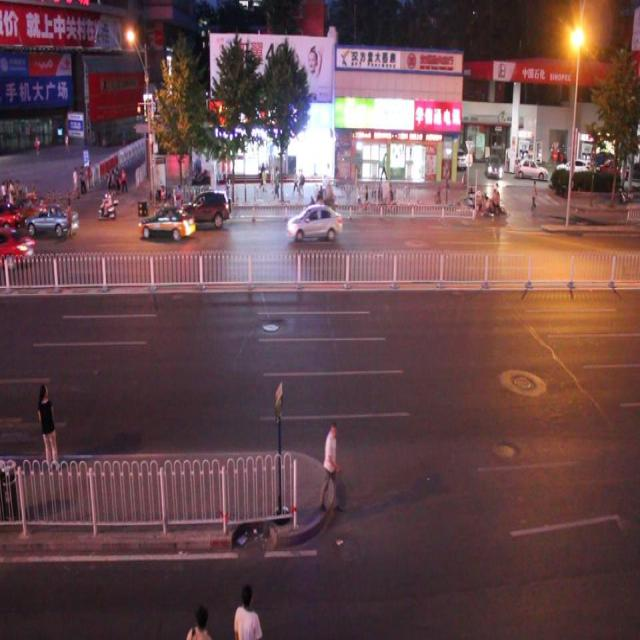car: (175, 184, 230, 228), (138, 201, 195, 241), (287, 200, 341, 240), (22, 199, 78, 234), (1, 224, 37, 268), (18, 191, 60, 223)
